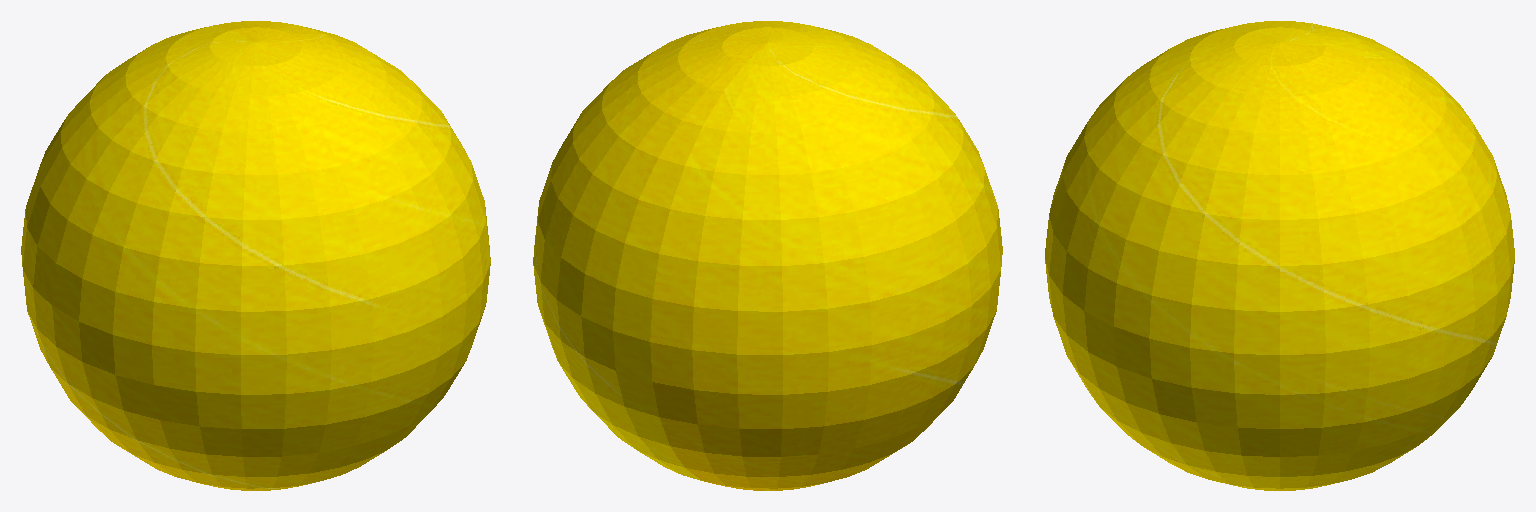
3 renders of one model, left to right at view 1: azimuth 30°, elevation 25°; view 2: azimuth 150°, elevation 25°; view 3: azimuth 270°, elevation 25°, orthographic.
Visible parts, largest first — view 1: Orbe; view 2: Orbe; view 3: Orbe.
Boxes of the visible parts, box(x1,y1,x2,y2) form: Orbe: box(21, 21, 490, 490); Orbe: box(533, 21, 1002, 490); Orbe: box(1045, 21, 1514, 490).
Size of the model in its own units: 0.228 by 0.228 by 0.228.
1 materials, 1 textured.